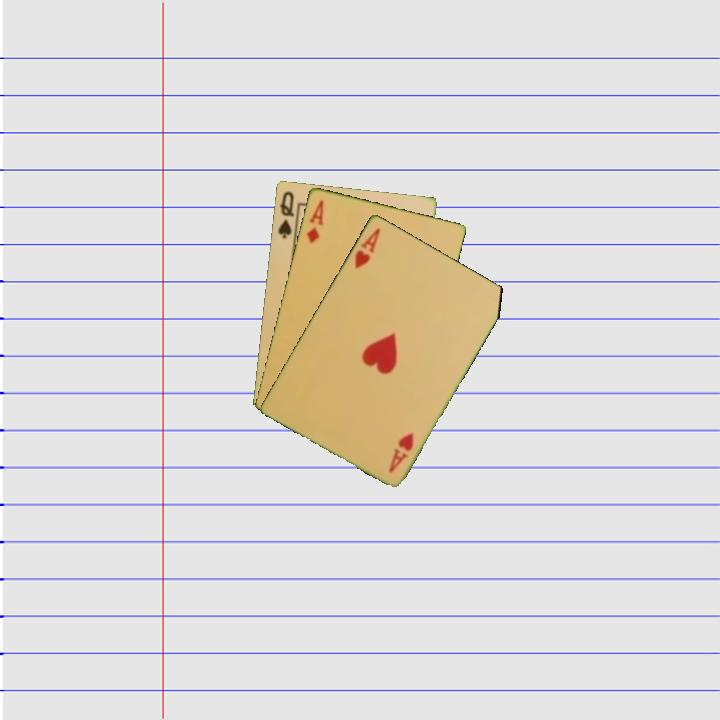Ad: (302, 196, 326, 246)
Ah: (351, 224, 383, 271), (385, 428, 417, 475)
Qs: (274, 187, 297, 241)
